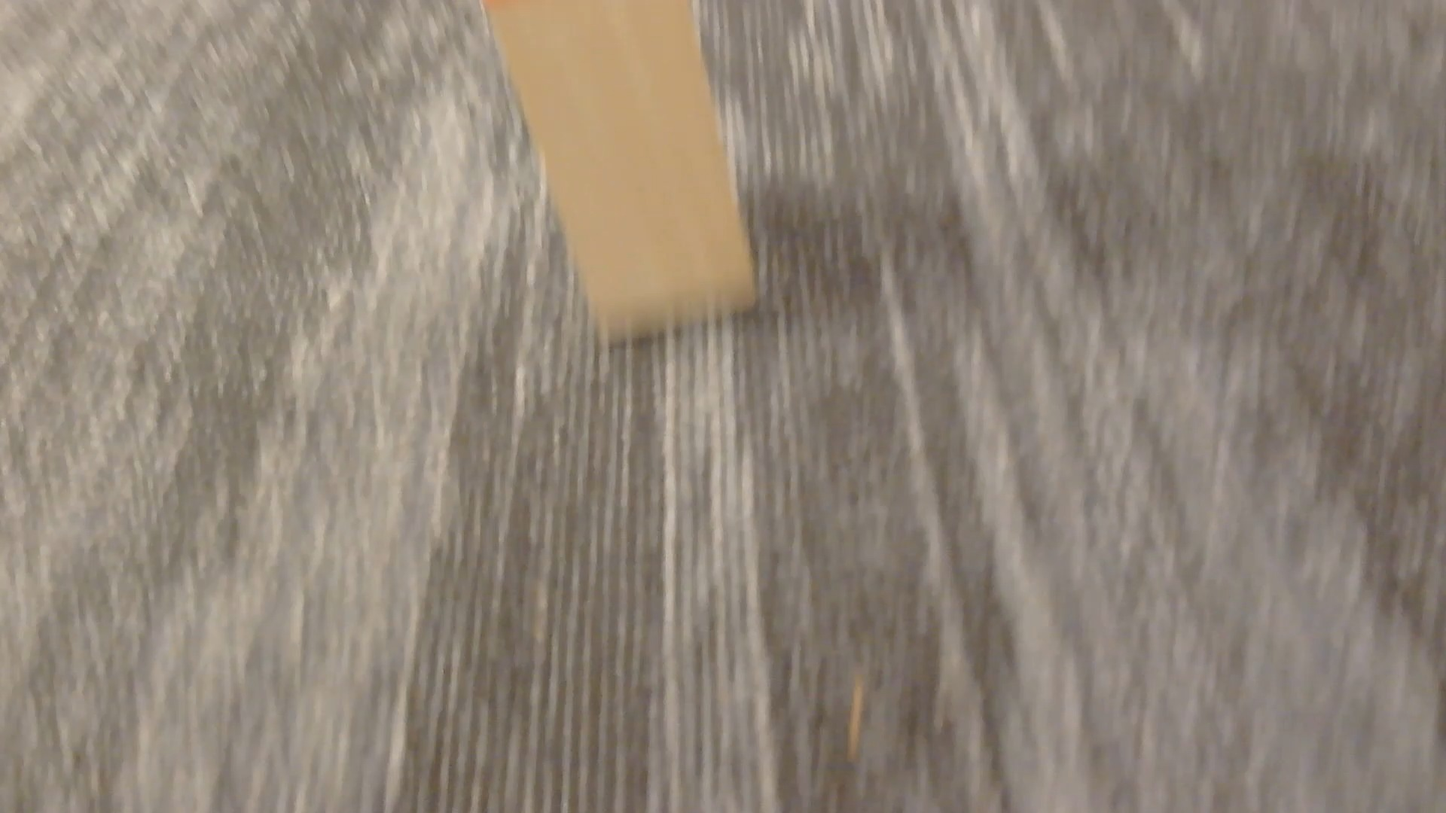Wooden Block: (484, 0, 756, 340)
